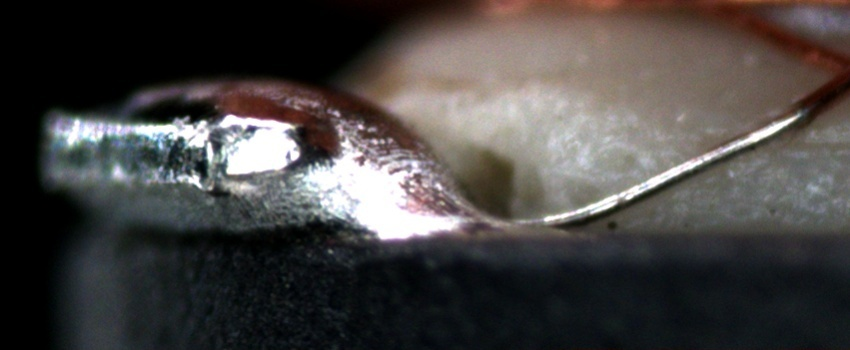DL: (701, 119, 849, 183)
TS: (510, 108, 805, 228)
